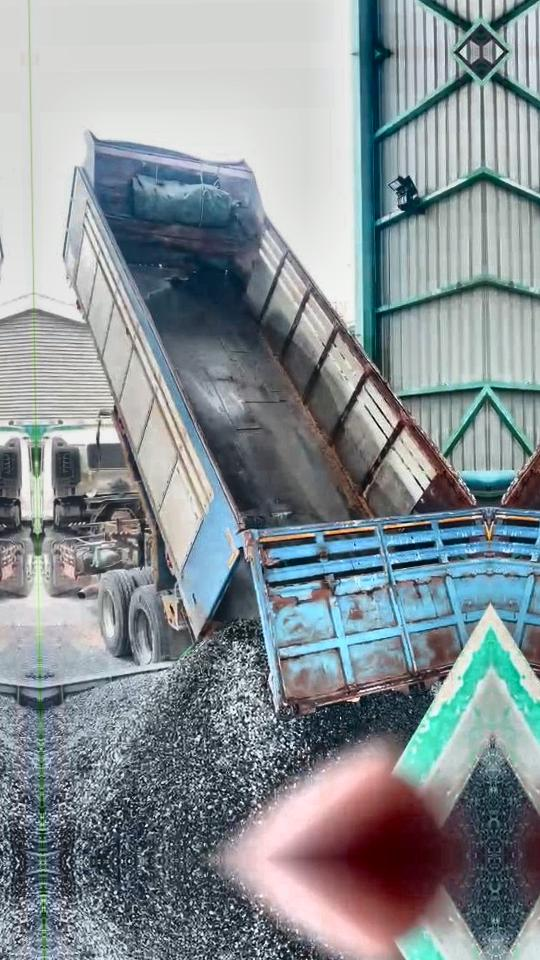gravel: (43, 622, 429, 862), (459, 762, 494, 855)
